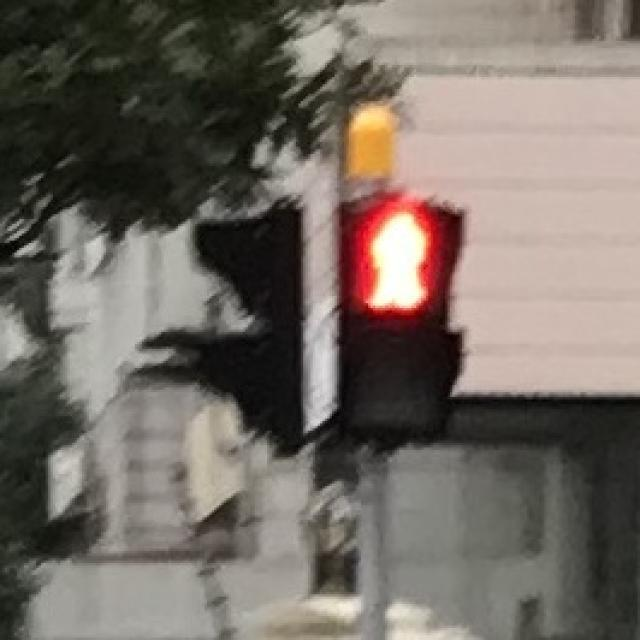red_light: (342, 195, 445, 318)
